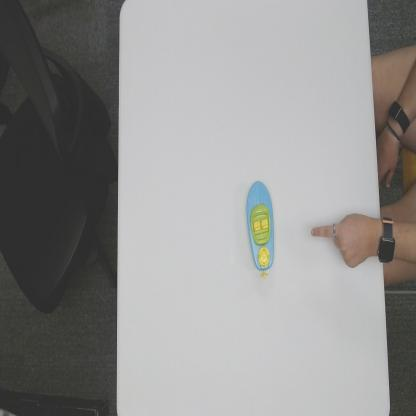Boat: (245, 177, 276, 279)
Hand: (309, 210, 373, 272)
